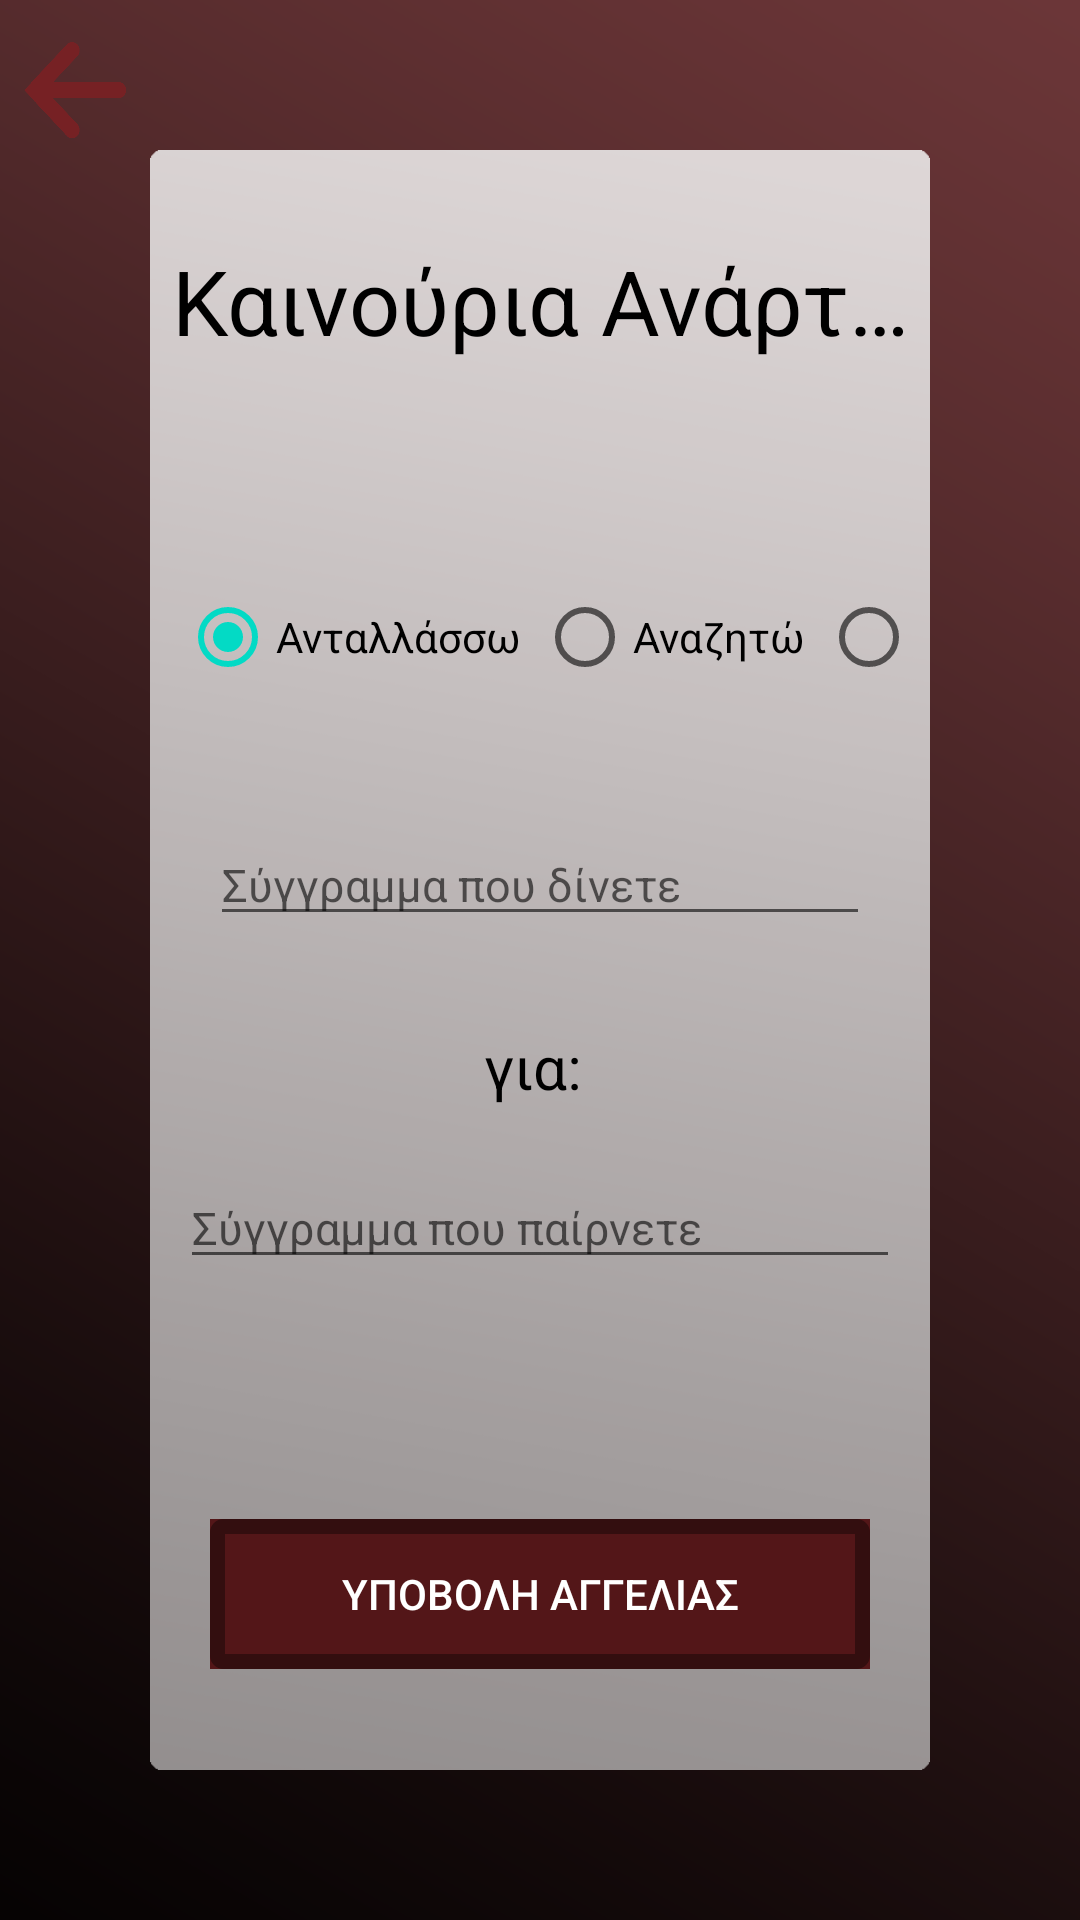

Icon bounding boxes for this 1080 x 1920 phone screenshot, format box(x1, y1, x2, y2):
back: box(25, 42, 126, 138)
